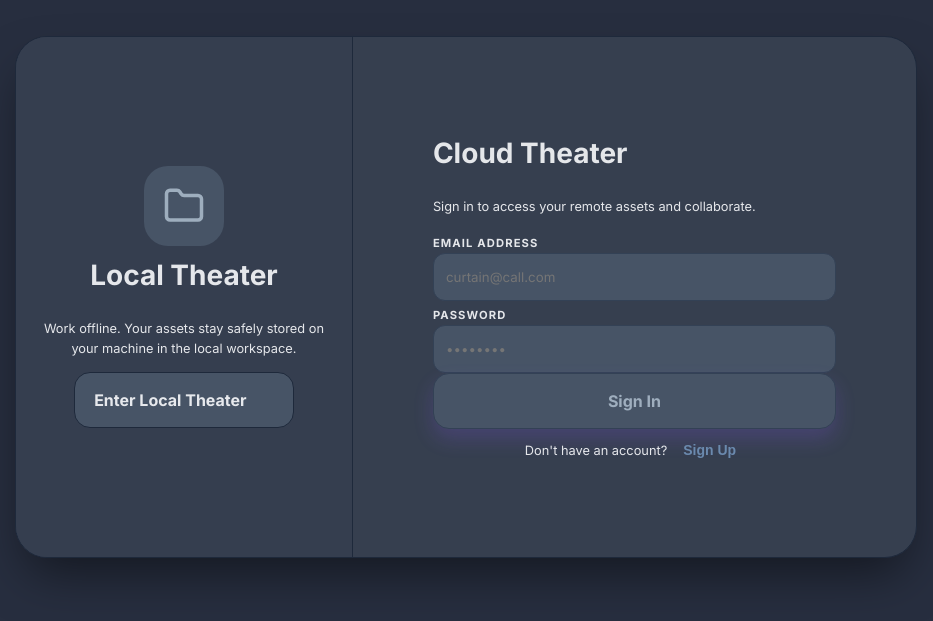
Scenario: LoginView › switches to registration form
The width and height of the screenshot is (933, 621).
Click the button "Sign Up": (710, 450) [675, 438, 744, 462]
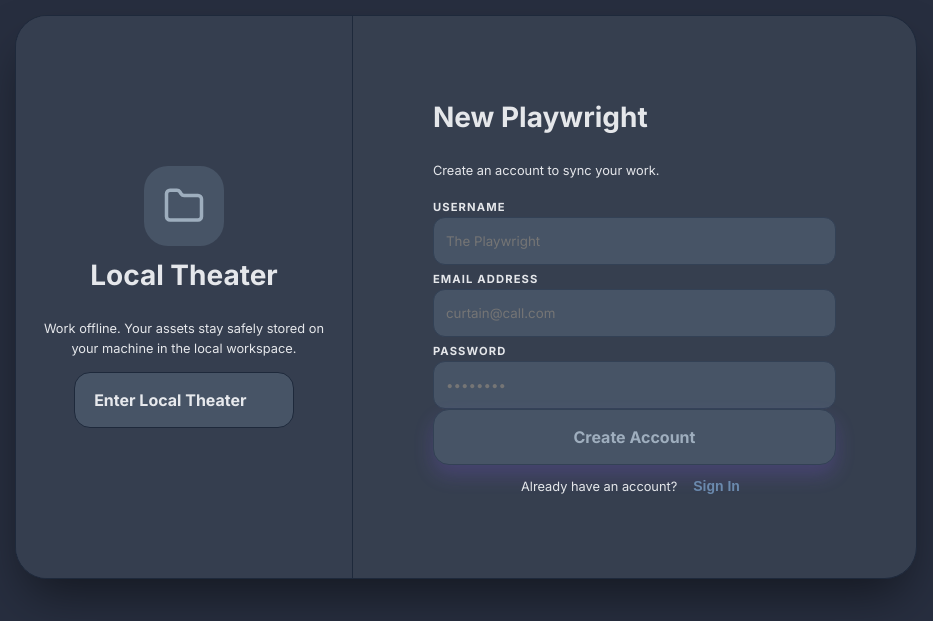
Expected: the heading "New Playwright" is shown, [433, 100, 648, 134]
Expected: the field with placeholder "The Playwright" is shown, [433, 217, 836, 265]
Expected: the button "Create Account" is shown, [433, 409, 836, 465]
